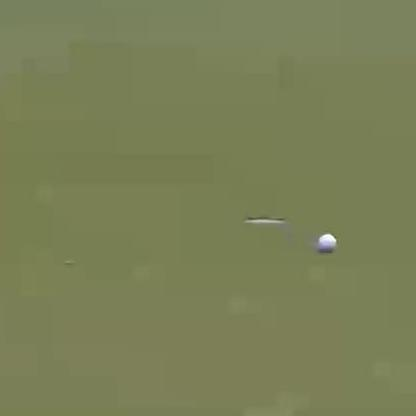golfball: (315, 232, 335, 252)
